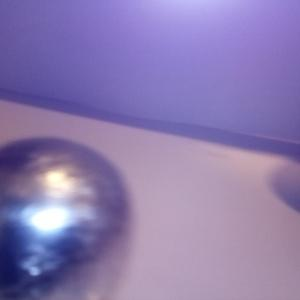alive_ball: (1, 139, 135, 300)
